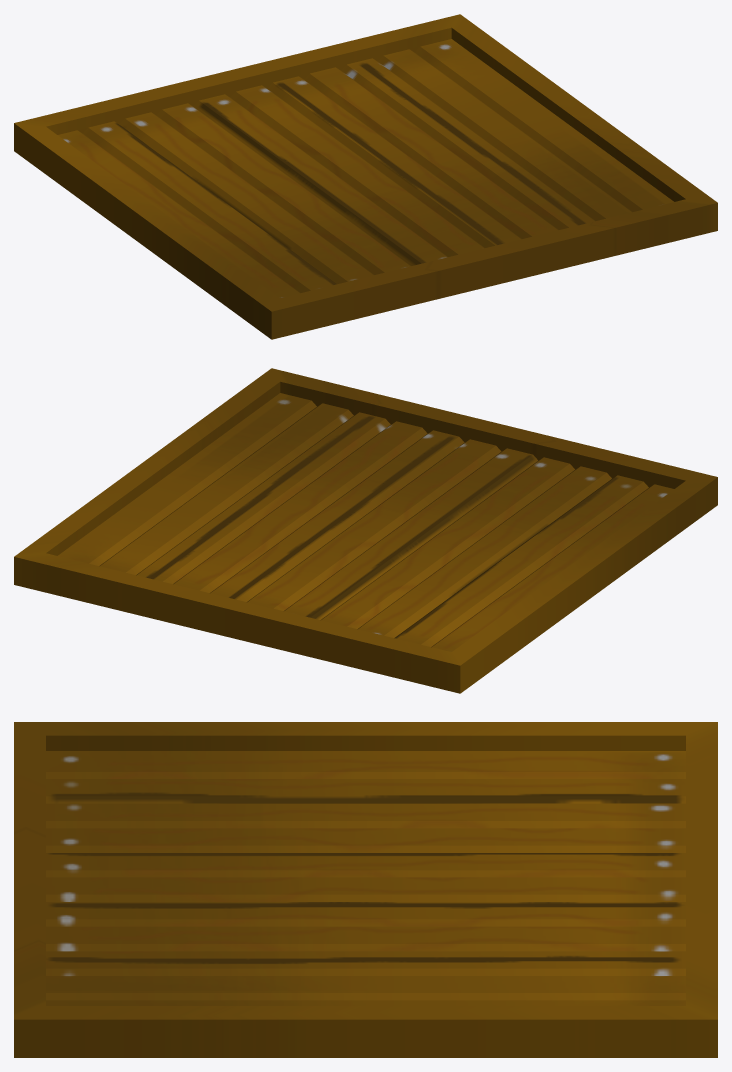
The model's file is Crate-1-lid.glb.
3 views of the same model, one above another, from view 1: azimuth 30°, elevation 25°; view 2: azimuth 150°, elevation 25°; view 3: azimuth 270°, elevation 25° (orthographic). The views are drawn at different scales.
Parts seen in each view (by area): view 1: Crate-Lid-1-patern; view 2: Crate-Lid-1-patern; view 3: Crate-Lid-1-patern.
Part boxes in pixels (left/top/right/bottom): Crate-Lid-1-patern: left=14, top=14, right=717, bottom=339; Crate-Lid-1-patern: left=14, top=368, right=717, bottom=693; Crate-Lid-1-patern: left=14, top=722, right=717, bottom=1057.
Bounding box in the file's own units: 2 × 0.1203 × 2.
1 material, 1 textured.
